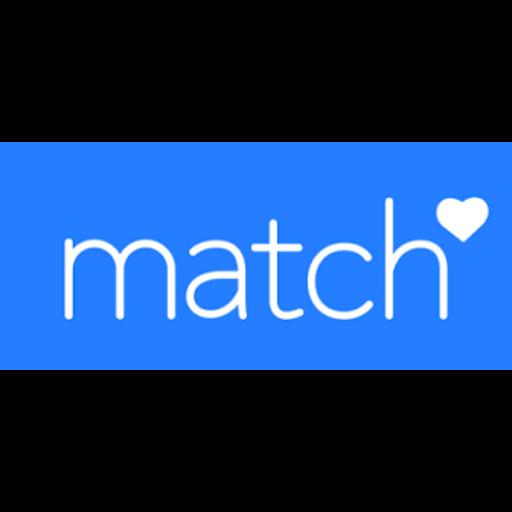Match: (0, 142, 512, 370)
